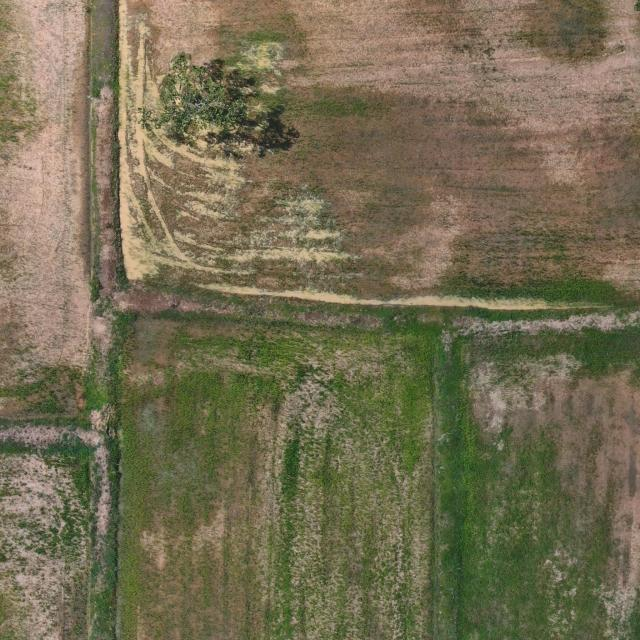Tree: (134, 50, 264, 147)
